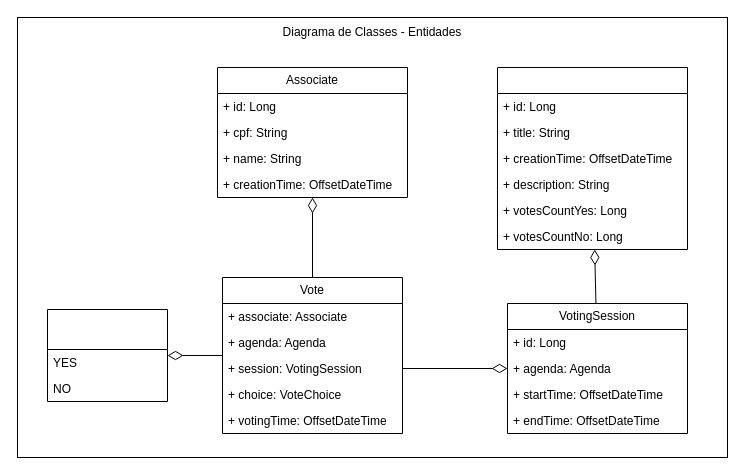
Image size: 745x475. Some labels were removed from this diagram. The box of each missing label's shape, as (x1, y1, x2, y2) in pixels:
Agenda: (496, 66, 688, 250)
«enumeration» VoteChice: (46, 308, 168, 402)
